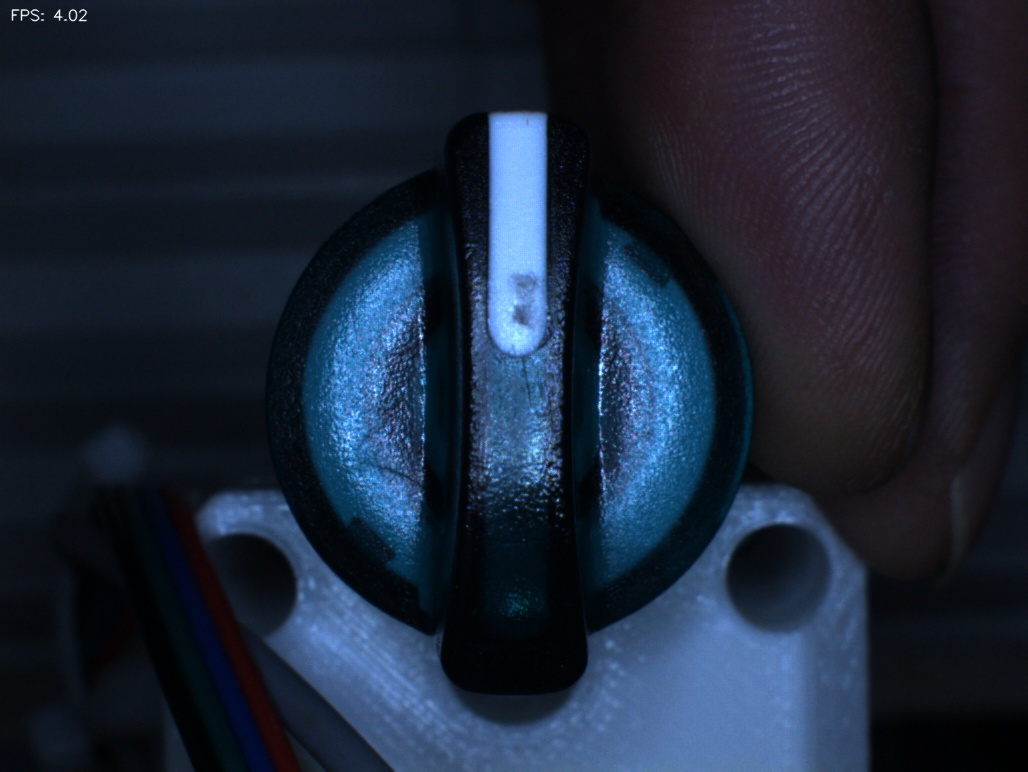PointNoir: (479, 249, 578, 348)
